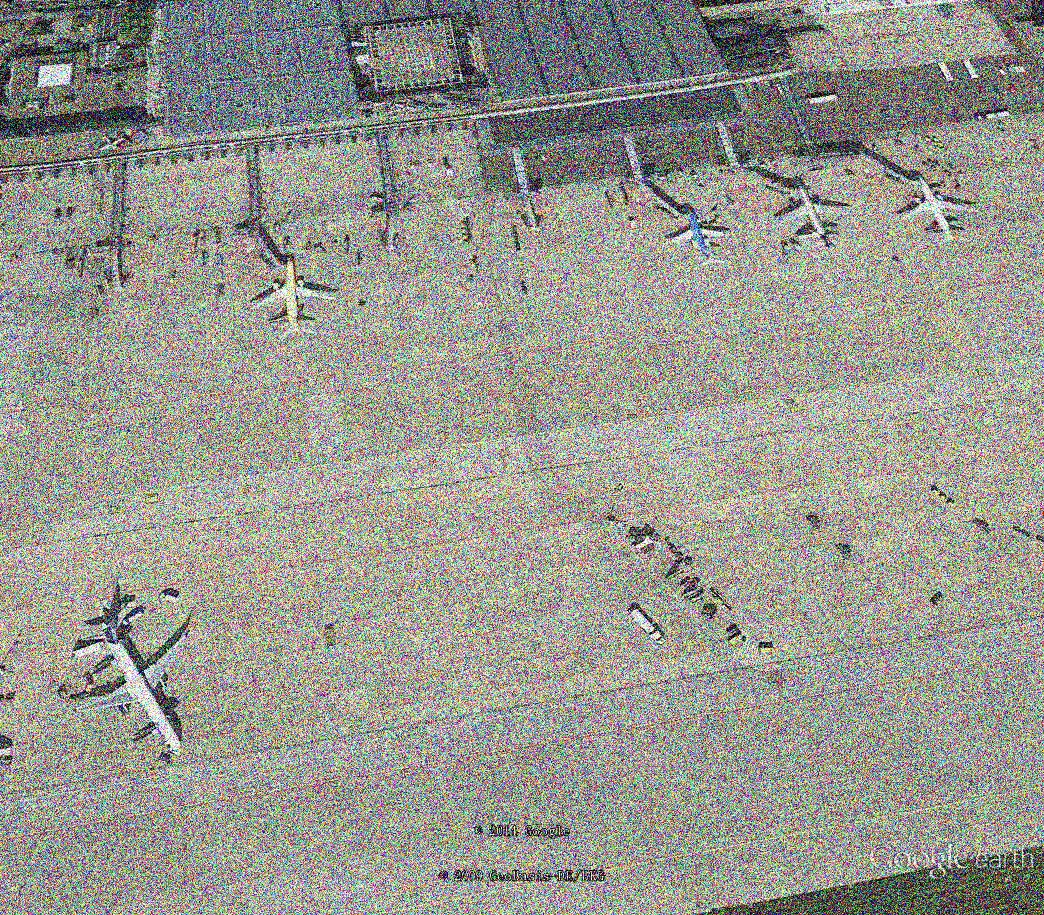aircraft: (66, 600, 196, 763), (246, 250, 343, 340), (895, 174, 988, 250), (769, 181, 859, 253), (663, 207, 738, 273), (97, 133, 127, 156)
